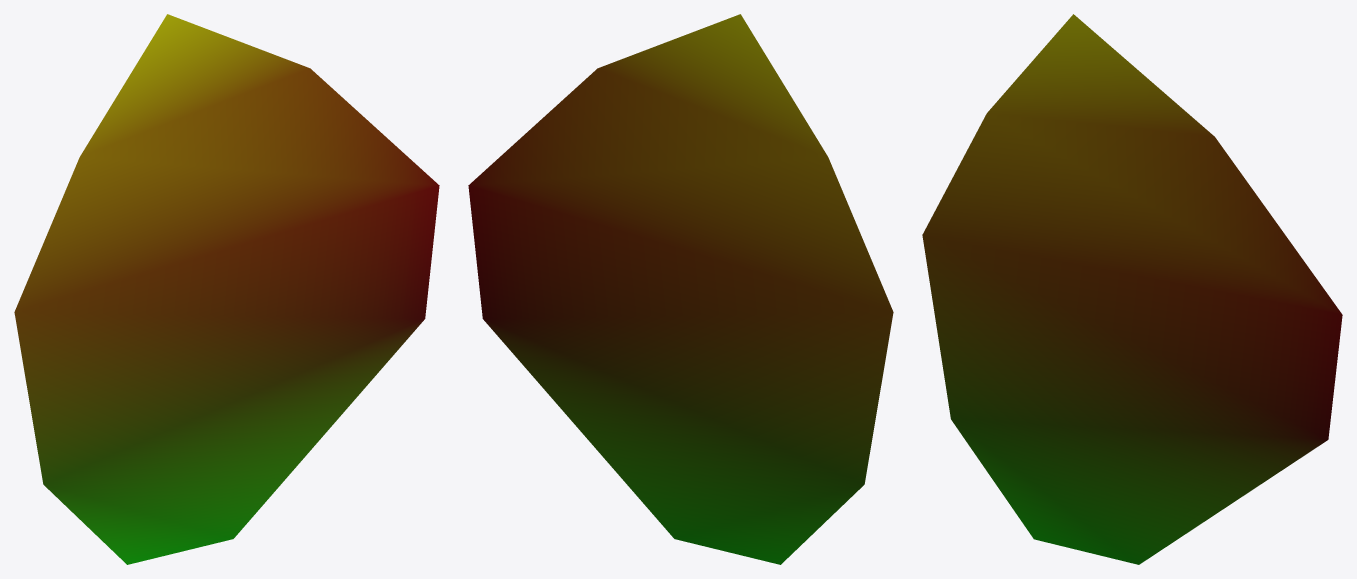
File: tmjhcayia_Var2_LOD4.fbx
The picture shows the model from 3 angles, left to right: view 1: azimuth 30°, elevation 25°; view 2: azimuth 150°, elevation 25°; view 3: azimuth 330°, elevation 25°; orthographic projection.
Parts seen in each view (by area): view 1: Var2_LOD4; view 2: Var2_LOD4; view 3: Var2_LOD4.
Part boxes in pixels (x1,y1,x2,y2): Var2_LOD4: (14, 14, 439, 564); Var2_LOD4: (468, 14, 893, 564); Var2_LOD4: (922, 14, 1342, 564).
Size of the model in its own units: 21.09 by 25.66 by 4.18e-06.
